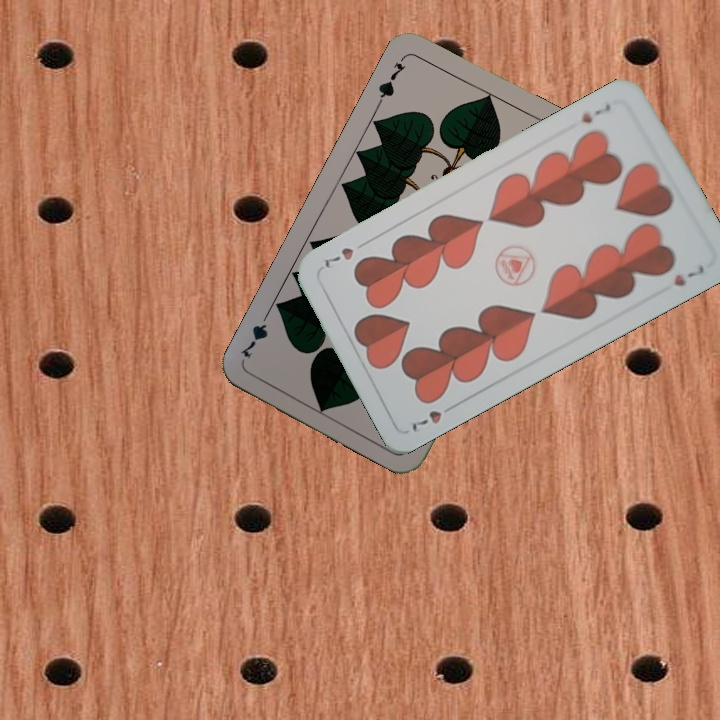G7: (374, 52, 409, 107)
H7: (405, 399, 460, 435), (577, 99, 614, 126)
